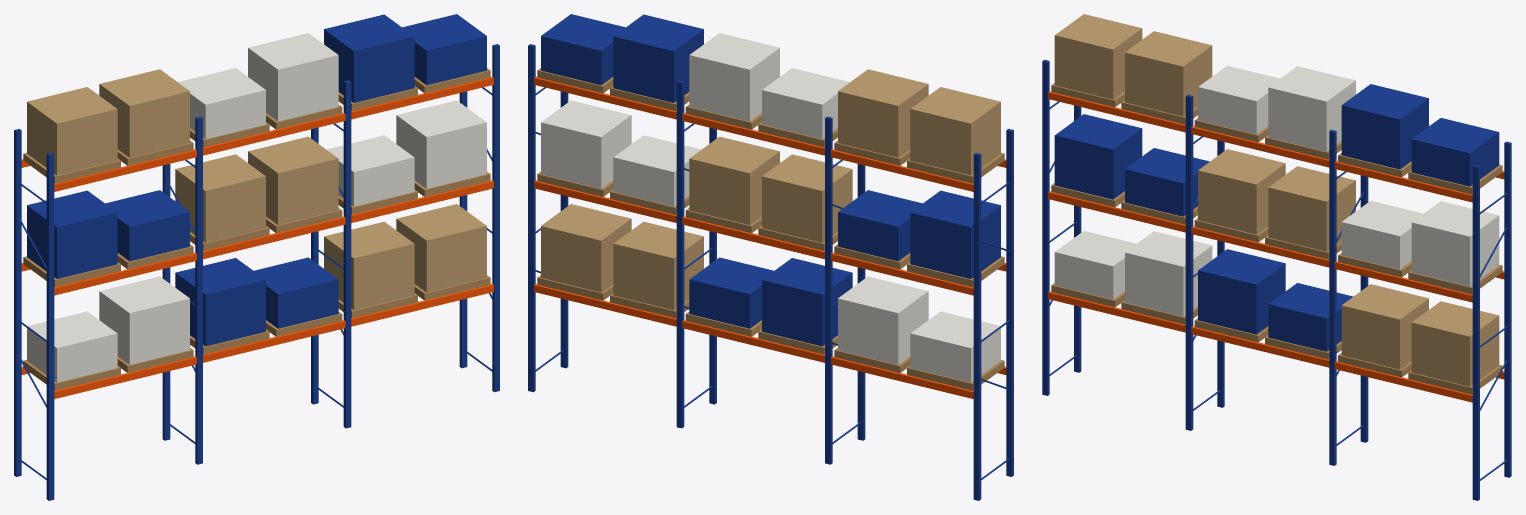
The model's file is industrial.racking.bay_3.glb.
The picture shows the model from 3 angles, left to right: view 1: azimuth 30°, elevation 25°; view 2: azimuth 150°, elevation 25°; view 3: azimuth 330°, elevation 25°; orthographic projection. The views are drawn at different scales.
Visible parts, largest first — view 1: main__plastic_blue, main__plywood, main__fabric_white, main__softwood, main__hivis_orange; view 2: main__plastic_blue, main__plywood, main__fabric_white, main__softwood, main__hivis_orange; view 3: main__plastic_blue, main__plywood, main__fabric_white, main__softwood, main__hivis_orange.
Part boxes in pixels (box(x1,y1,x2,y2)): main__plastic_blue: box(14, 14, 499, 500); main__plywood: box(27, 69, 486, 310); main__fabric_white: box(27, 33, 486, 382); main__softwood: box(23, 68, 490, 390); main__hivis_orange: box(21, 76, 493, 398); main__plastic_blue: box(528, 14, 1013, 500); main__plywood: box(541, 69, 1000, 310); main__fabric_white: box(541, 33, 1000, 382); main__softwood: box(537, 68, 1004, 390); main__hivis_orange: box(534, 76, 1006, 398); main__plastic_blue: box(1042, 59, 1511, 500); main__plywood: box(1054, 14, 1499, 386); main__fabric_white: box(1054, 65, 1499, 316); main__softwood: box(1051, 83, 1502, 394); main__hivis_orange: box(1048, 91, 1504, 402).
Bounding box in the file's own units: 8.2 × 6.48 × 1.1.
